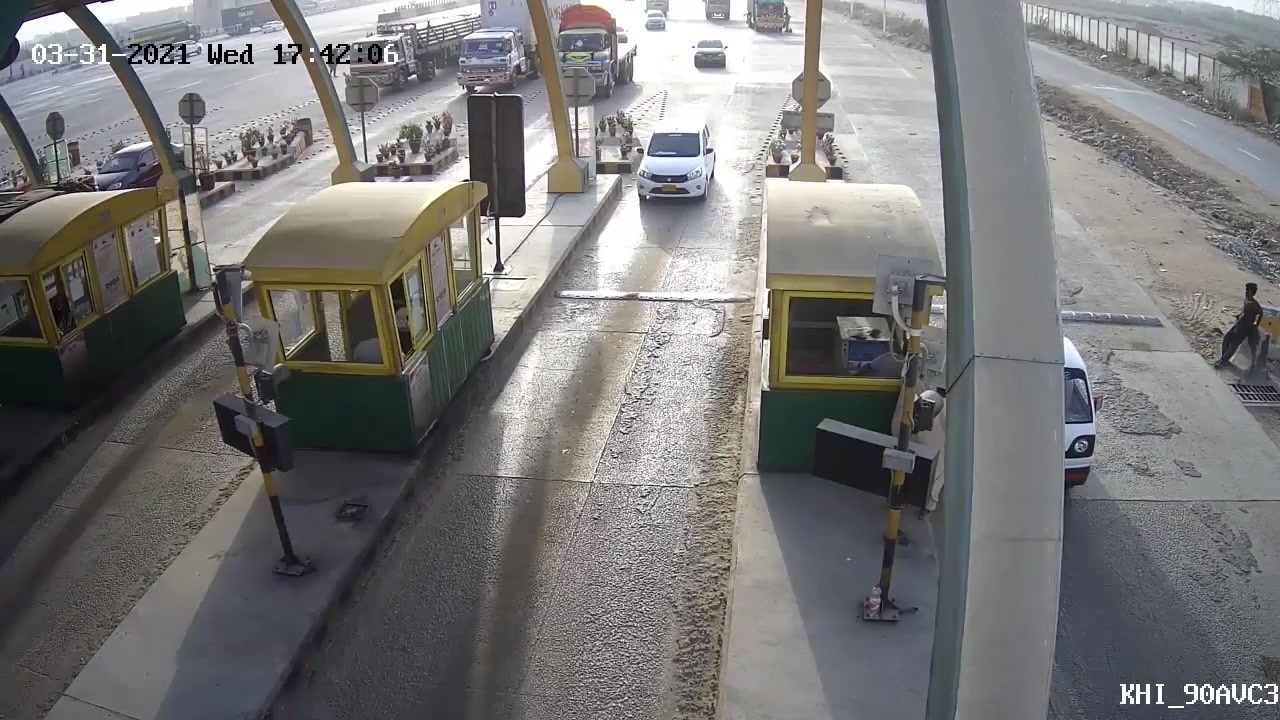F1: (624, 109, 724, 220)
